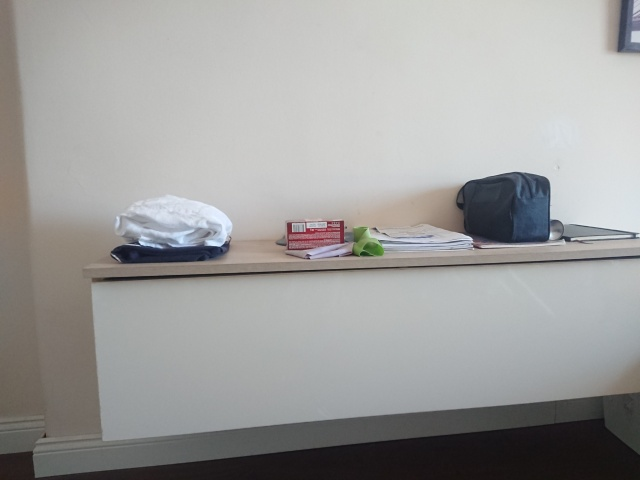Franck Apple Cinnamon Tea 60g: (283, 216, 345, 254)
